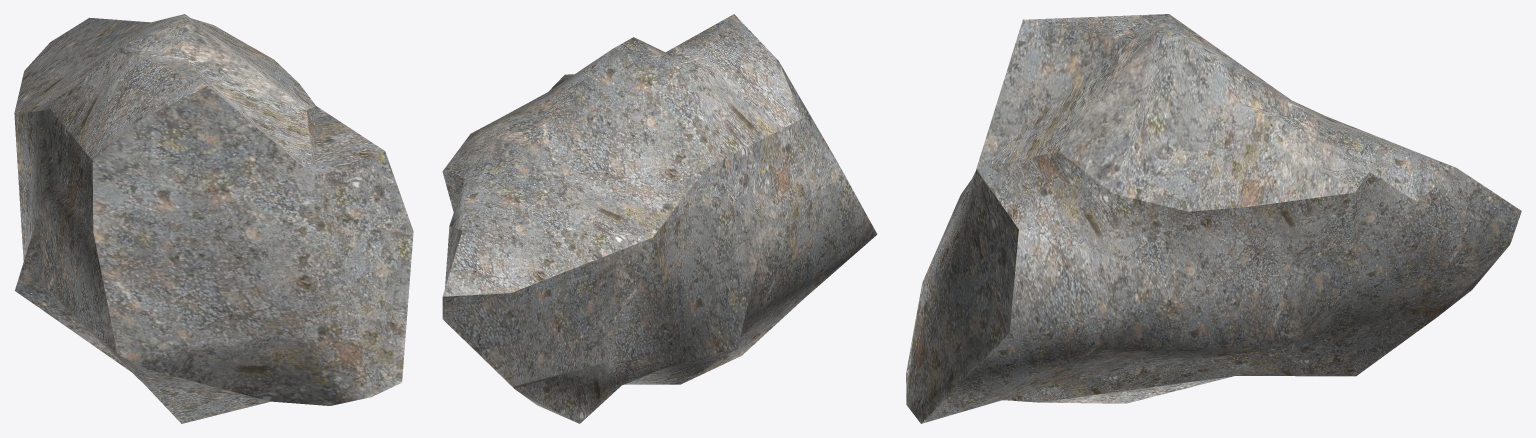
The model's file is rocks_rock3.glb.
3 renders of one model, left to right at view 1: azimuth 30°, elevation 25°; view 2: azimuth 150°, elevation 25°; view 3: azimuth 270°, elevation 25°, orthographic. The views are drawn at different scales.
Parts seen in each view (by area): view 1: rock3; view 2: rock3; view 3: rock3.
Boxes of the visible parts, x1,y1,x2,y2 form: rock3: [14, 14, 413, 423]; rock3: [442, 14, 877, 423]; rock3: [906, 14, 1521, 423].
Size of the model in its own units: 2.86 by 3.07 by 4.39.
Materials: 1 (1 with a texture image).
